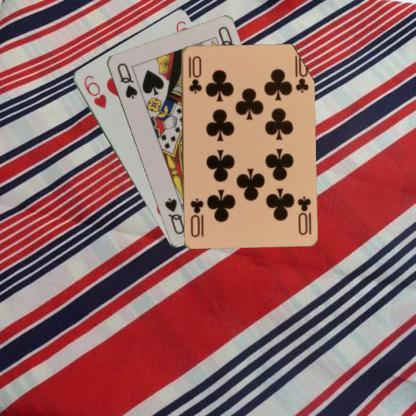10c: (294, 194, 312, 236), (186, 54, 204, 94)
6h: (80, 72, 108, 110)
Qs: (113, 60, 138, 100)
